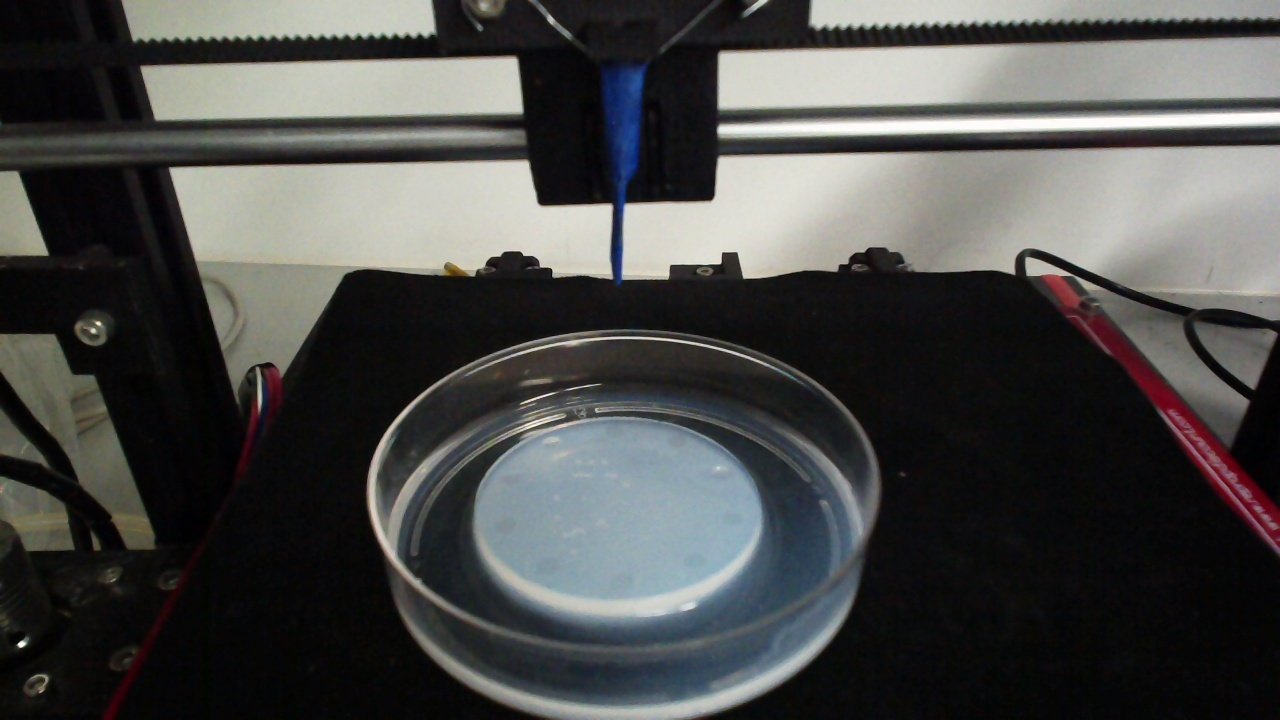groove: (529, 555, 562, 576), (489, 514, 519, 535), (608, 570, 637, 591), (722, 506, 747, 527), (664, 430, 688, 450), (709, 464, 733, 483), (682, 551, 707, 569), (497, 470, 522, 487), (602, 423, 626, 440), (539, 436, 561, 452)
needle: (607, 68, 640, 286)
